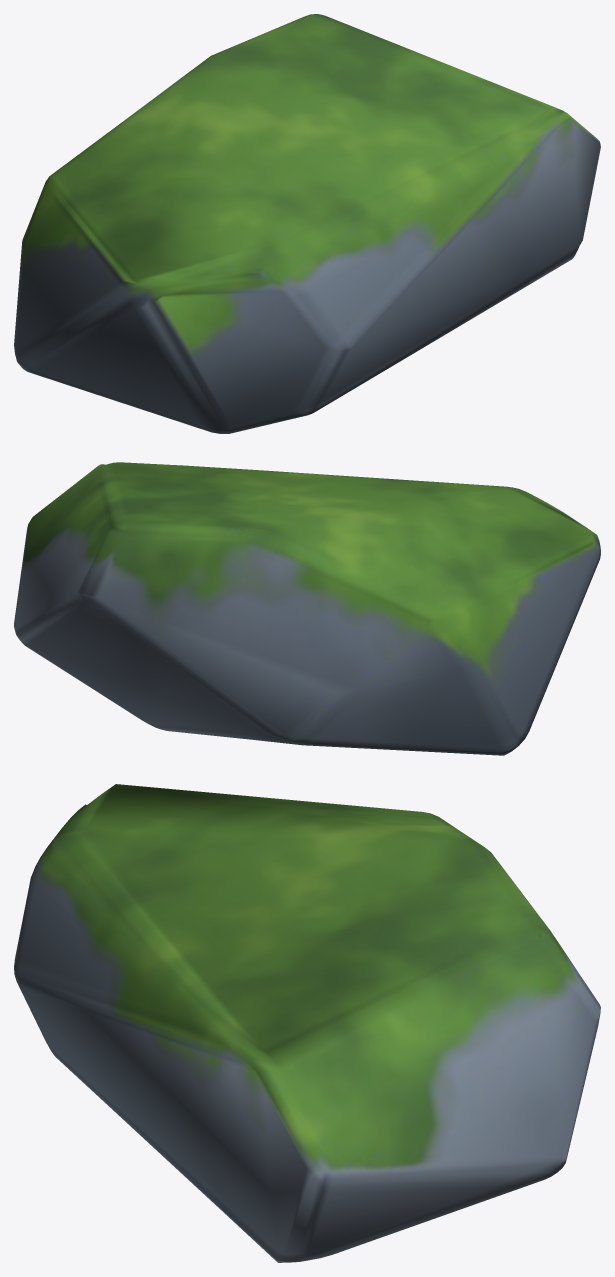
The model's file is rock_b.glb.
3 renders of one model, top to bottom at view 1: azimuth 30°, elevation 25°; view 2: azimuth 150°, elevation 25°; view 3: azimuth 270°, elevation 25°, orthographic. The views are drawn at different scales.
Visible parts, largest first — view 1: rock_b; view 2: rock_b; view 3: rock_b.
Part boxes in pixels (x1,y1,x2,y2): rock_b: (14, 14, 600, 433); rock_b: (14, 462, 600, 755); rock_b: (14, 784, 600, 1262).
Size of the model in its own units: 1.19 by 0.467 by 0.8884.
Materials: 1 (1 with a texture image).
